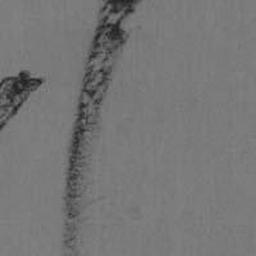Inclusion: (61, 0, 145, 256), (0, 69, 46, 132)
